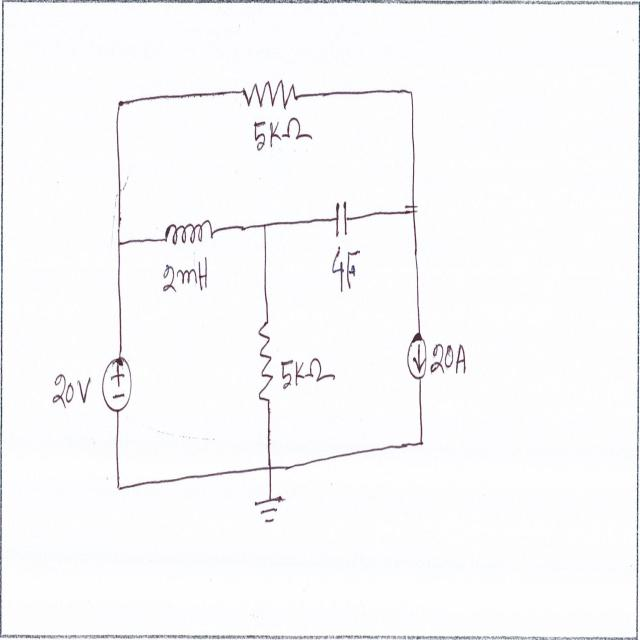capacitor: (333, 196, 351, 242)
current_source: (403, 329, 430, 384)
ground: (248, 482, 293, 533)
inductor: (160, 213, 216, 250)
resistor: (238, 72, 300, 115), (254, 318, 278, 410)
voltage_source: (98, 344, 136, 419)
